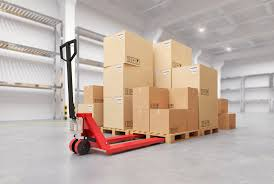Pallet Jack: (58, 39, 165, 158)
